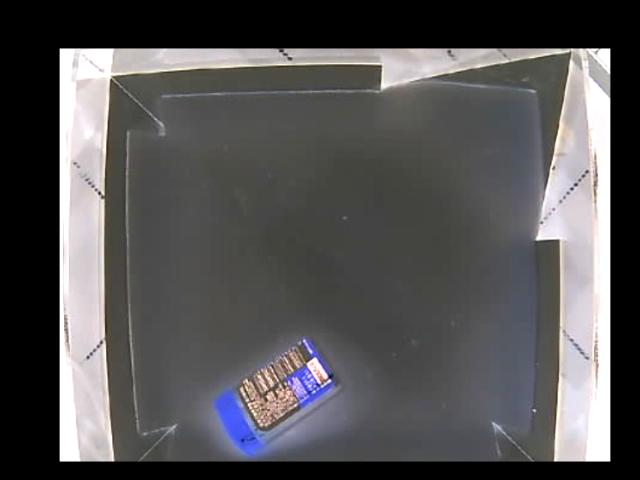Bottle: (214, 331, 344, 461)
